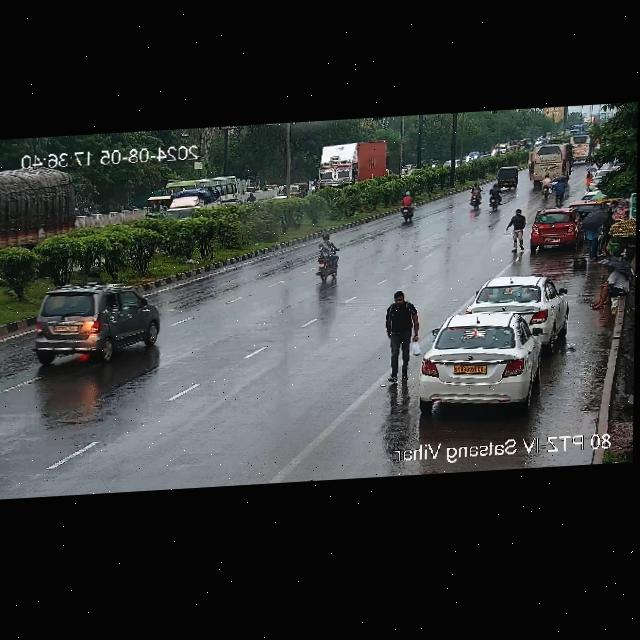bus: (524, 141, 576, 185), (169, 175, 237, 207)
car: (411, 311, 559, 415), (29, 280, 157, 366), (473, 274, 567, 336), (530, 209, 580, 248), (493, 166, 521, 190), (569, 199, 592, 214)
motorcycle: (308, 233, 350, 283), (395, 192, 420, 223), (461, 184, 486, 210), (484, 183, 505, 208), (542, 172, 551, 201), (556, 178, 565, 205)
person: (381, 287, 417, 358), (590, 262, 632, 309), (581, 205, 611, 260), (508, 209, 526, 256), (586, 171, 594, 189)
truck: (0, 165, 78, 254), (312, 140, 397, 189), (169, 192, 220, 222)
